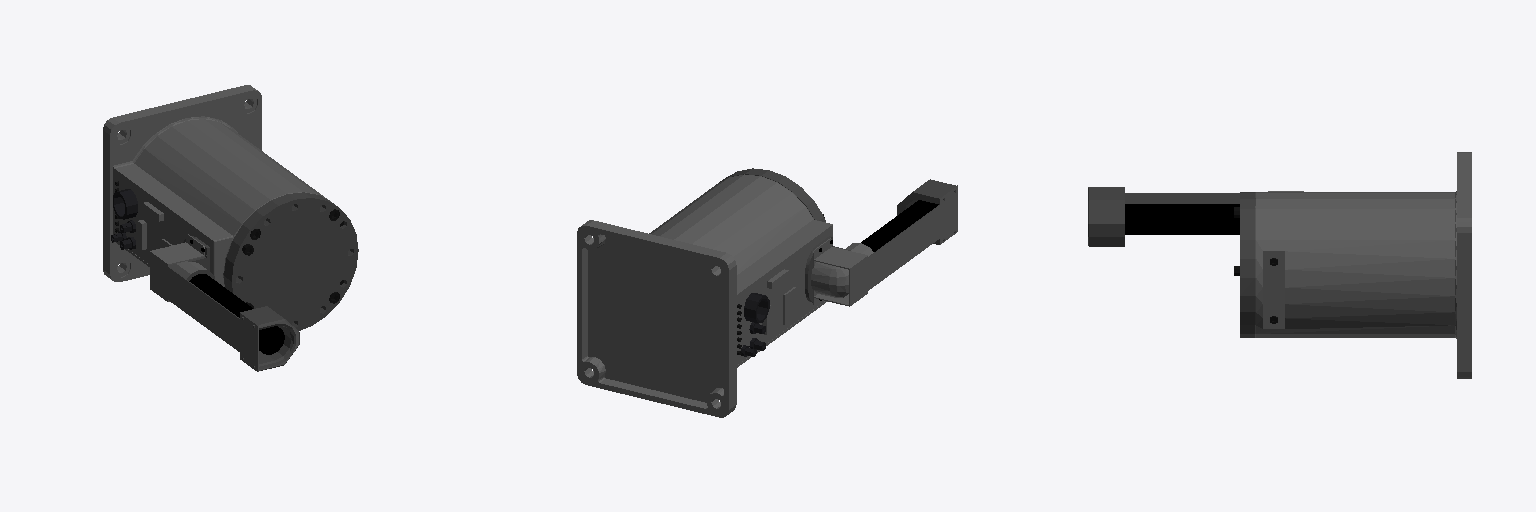
File: Eslabon0.obj
The picture shows the model from 3 angles: view 1: azimuth 30°, elevation 25°; view 2: azimuth 150°, elevation 25°; view 3: azimuth 270°, elevation 25°; orthographic projection.
Parts seen in each view (by area): view 1: quilt__22_0; view 2: quilt__22_0; view 3: quilt__22_0.
Boxes of the visible parts, x1=… form: quilt__22_0: x1=103, y1=85, x2=358, y2=371; quilt__22_0: x1=577, y1=168, x2=957, y2=417; quilt__22_0: x1=1088, y1=152, x2=1471, y2=378.
Bounding box in the file's own units: 0.2998 × 0.24 × 0.524.